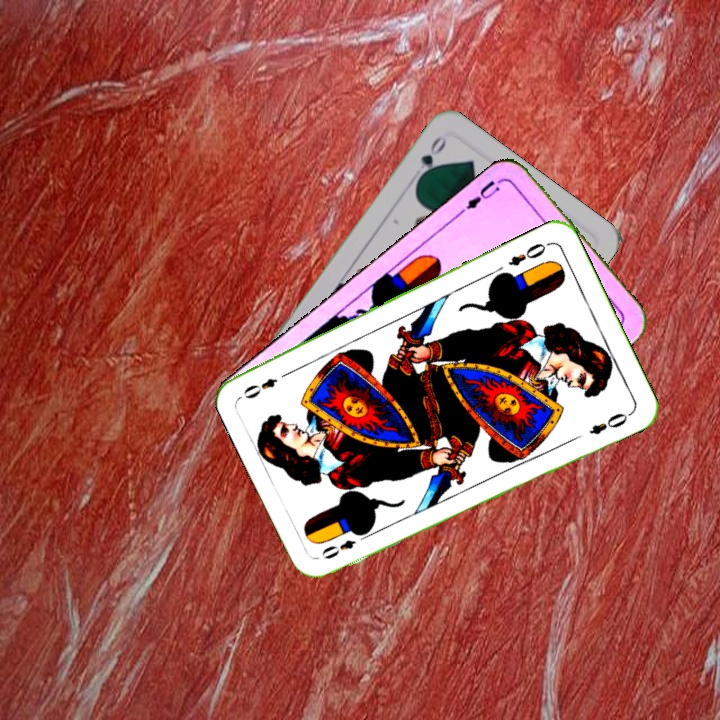EO: (317, 528, 372, 562), (504, 238, 553, 269)
EU: (462, 176, 502, 212)
GO: (413, 132, 449, 185)
